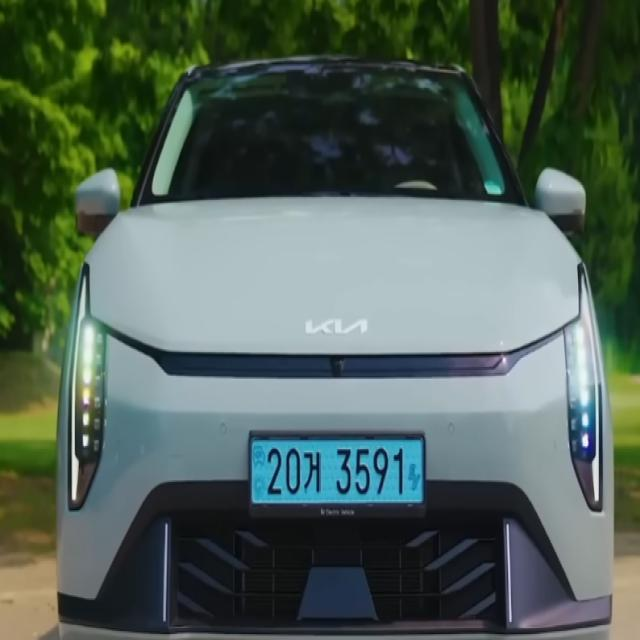car: (238, 418, 447, 537)
carev: (406, 433, 428, 516), (249, 433, 267, 516)
